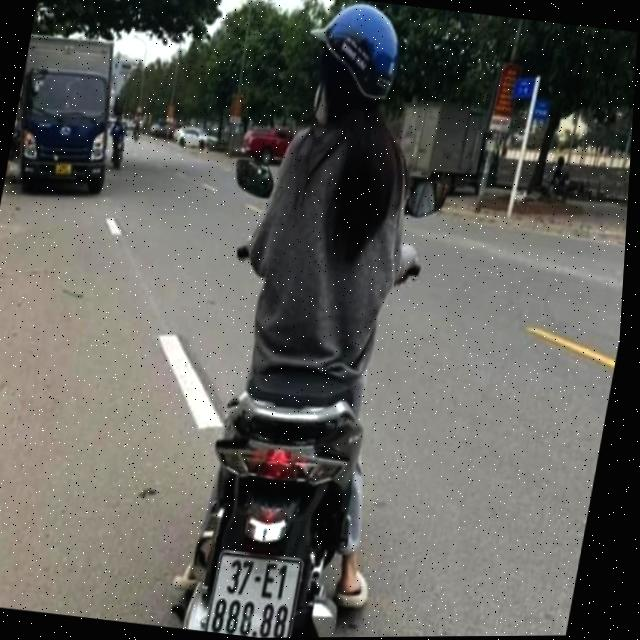car: (3, 41, 136, 203)
motorcycle: (156, 367, 398, 639), (105, 120, 132, 174)
plate: (199, 542, 310, 638), (47, 154, 79, 184)
